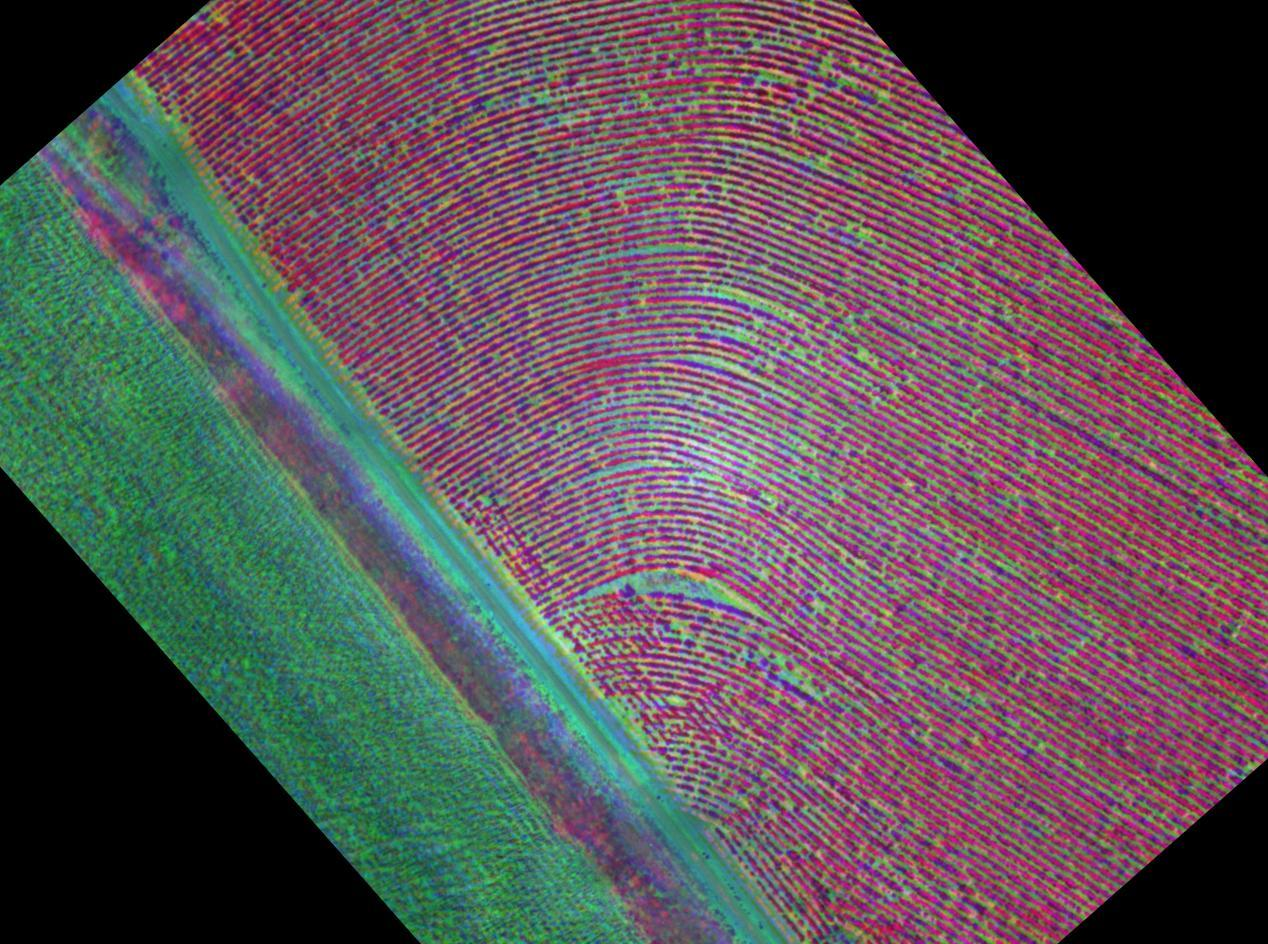dc: (591, 560, 787, 705), (676, 243, 857, 380), (588, 415, 758, 517), (733, 33, 857, 148), (473, 48, 561, 149)
